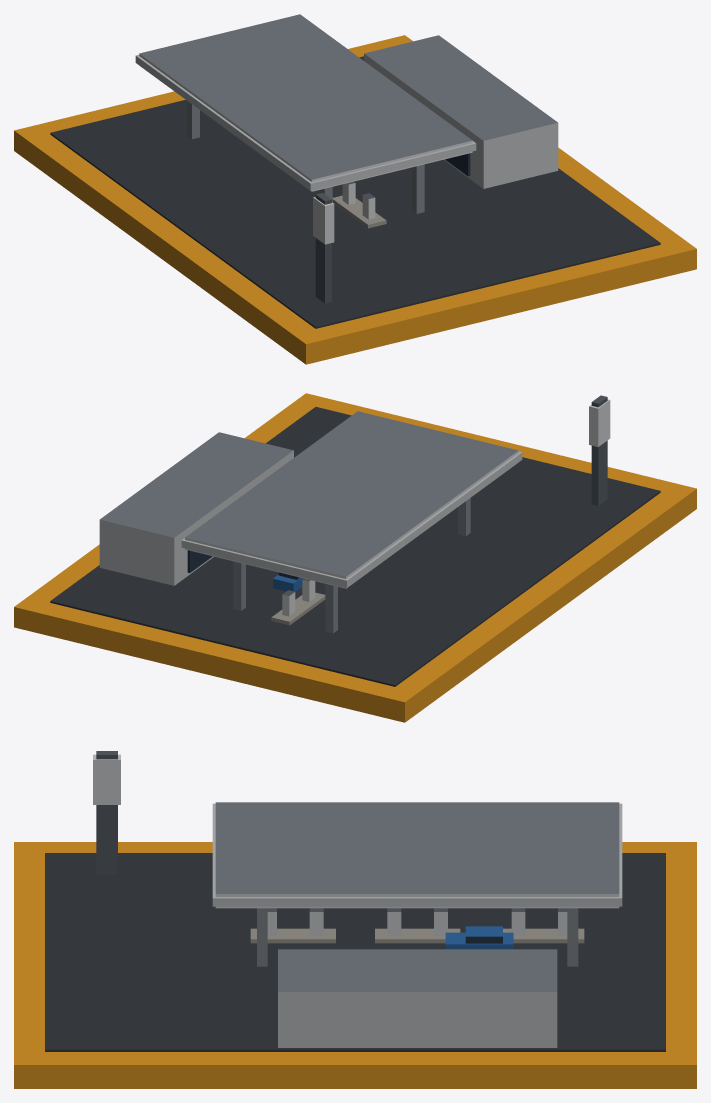
File: fuel_station_amber.glb
The picture shows the model from 3 angles, top to bottom: view 1: azimuth 30°, elevation 25°; view 2: azimuth 150°, elevation 25°; view 3: azimuth 270°, elevation 25°; orthographic projection. The views are drawn at different scales.
Visible parts, largest first — view 1: fuel_station_amber; view 2: fuel_station_amber; view 3: fuel_station_amber.
Boxes of the visible parts, x1=… form: fuel_station_amber: x1=14, y1=14, x2=696, y2=364; fuel_station_amber: x1=14, y1=393, x2=696, y2=722; fuel_station_amber: x1=14, y1=751, x2=696, y2=1088.
Bounding box in the file's own units: 34 × 10.35 × 44.
